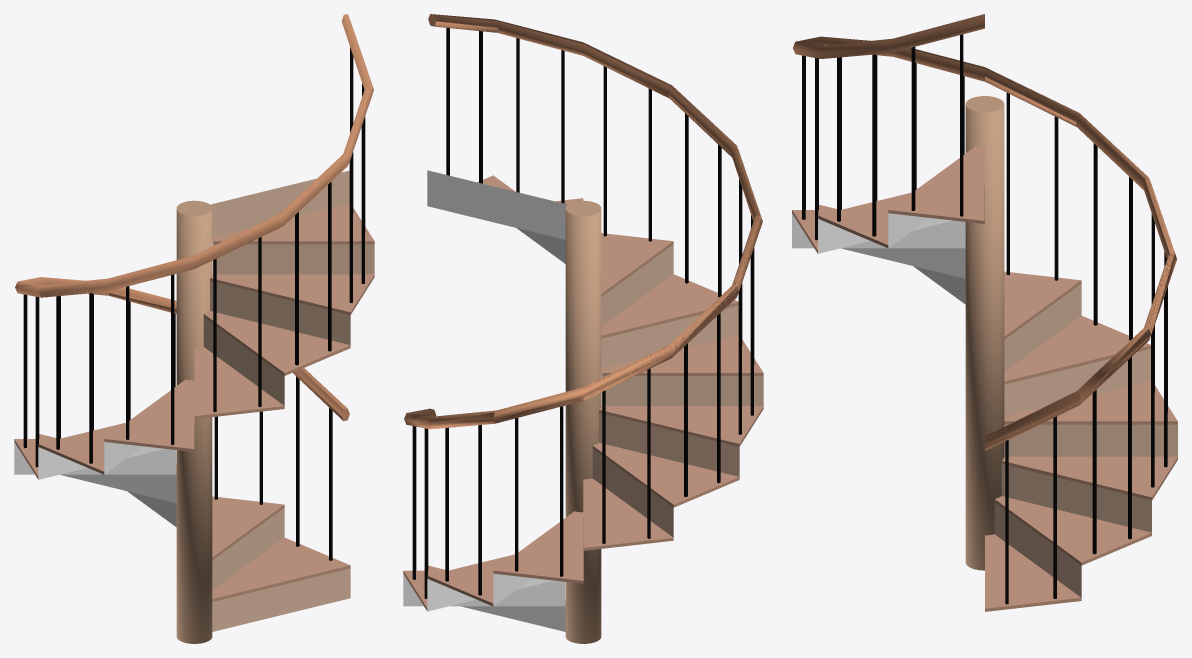
Rendered from stairs_spiral.glb.
3 views of the same model, side by side, from view 1: azimuth 30°, elevation 25°; view 2: azimuth 150°, elevation 25°; view 3: azimuth 270°, elevation 25° (orthographic). The views are drawn at different scales.
Size of the model in its own units: 200 by 358 by 200.
